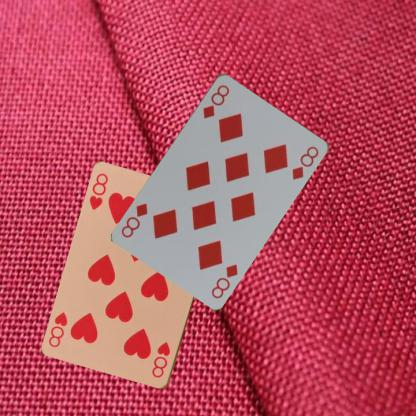8d: (209, 261, 239, 300), (200, 82, 230, 119)
8h: (86, 171, 110, 211), (149, 339, 172, 380)
